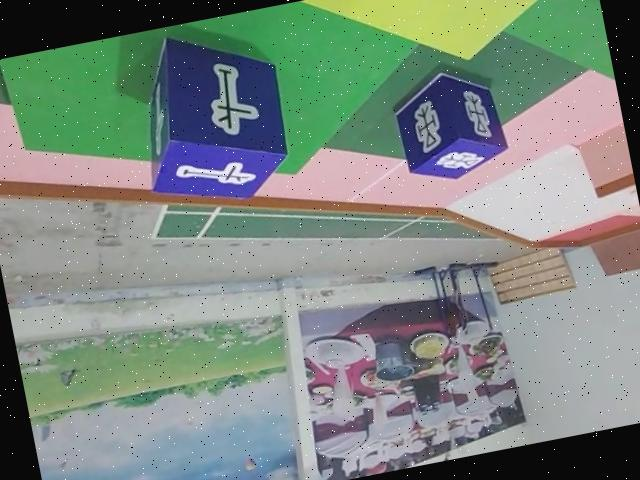R2 Real Blue: (125, 17, 298, 214), (389, 62, 512, 187)
